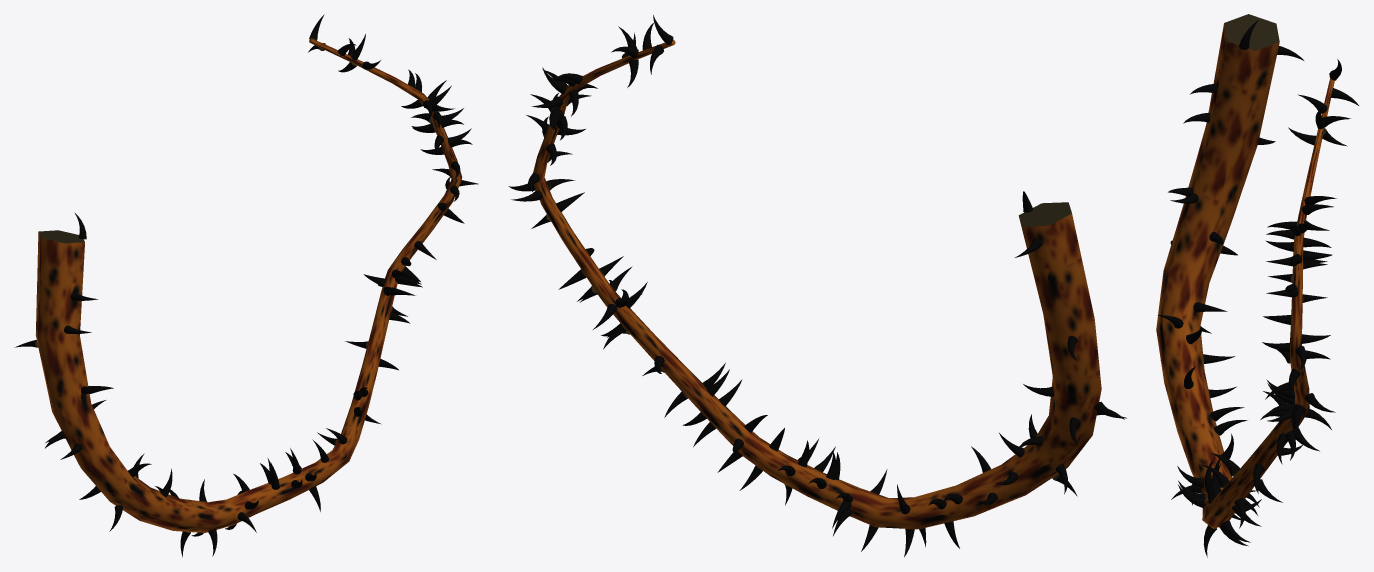
The model's file is thorn_curve.FBX.
3 views of the same model, side by side, from view 1: azimuth 30°, elevation 25°; view 2: azimuth 150°, elevation 25°; view 3: azimuth 270°, elevation 25° (orthographic). The views are drawn at different scales.
Parts seen in each view (by area): view 1: Thorn009; view 2: Thorn009; view 3: Thorn009.
Part boxes in pixels (x1,y1,x2,y2): Thorn009: (14,14,478,557); Thorn009: (508,15,1126,557); Thorn009: (1156,14,1358,557).
Size of the model in its own units: 382 by 347 by 117.
